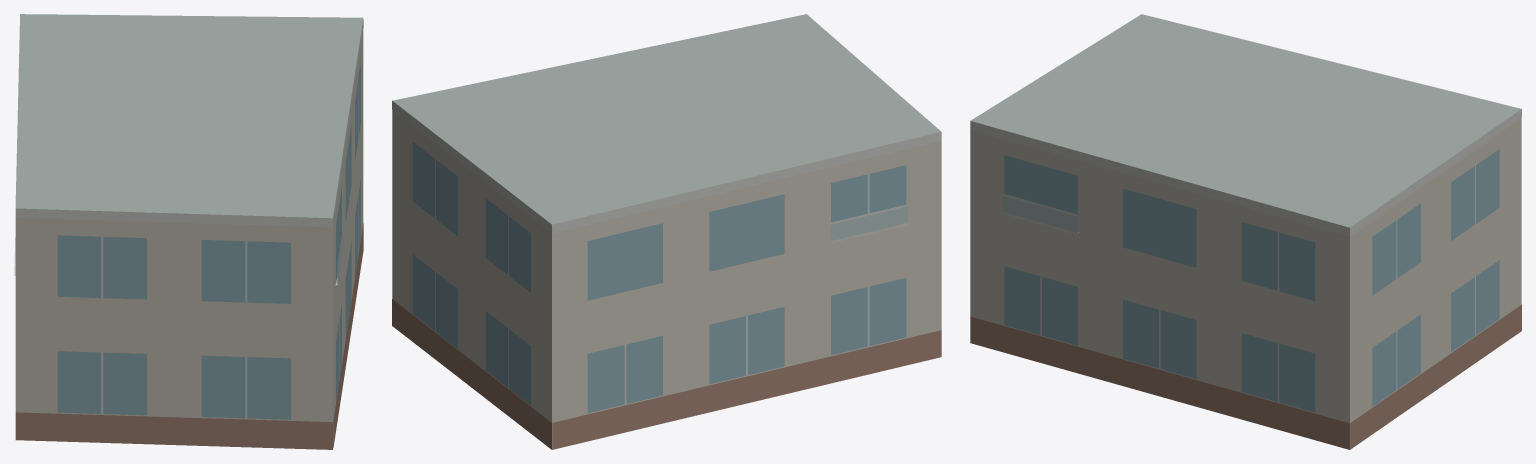
File: survey-upis-32939434.glb
3 views of the same model, side by side, from view 1: azimuth 30°, elevation 25°; view 2: azimuth 150°, elevation 25°; view 3: azimuth 270°, elevation 25° (orthographic). The views are drawn at different scales.
Parts seen in each view (by area): view 1: survey-upis-32939434.tmp; view 2: survey-upis-32939434.tmp; view 3: survey-upis-32939434.tmp.
Part boxes in pixels (<box>): survey-upis-32939434.tmp: <box>14,14,363,449</box>; survey-upis-32939434.tmp: <box>392,14,941,449</box>; survey-upis-32939434.tmp: <box>970,14,1521,449</box>.
Size of the model in its own units: 12.59 by 6.1 by 13.73.
